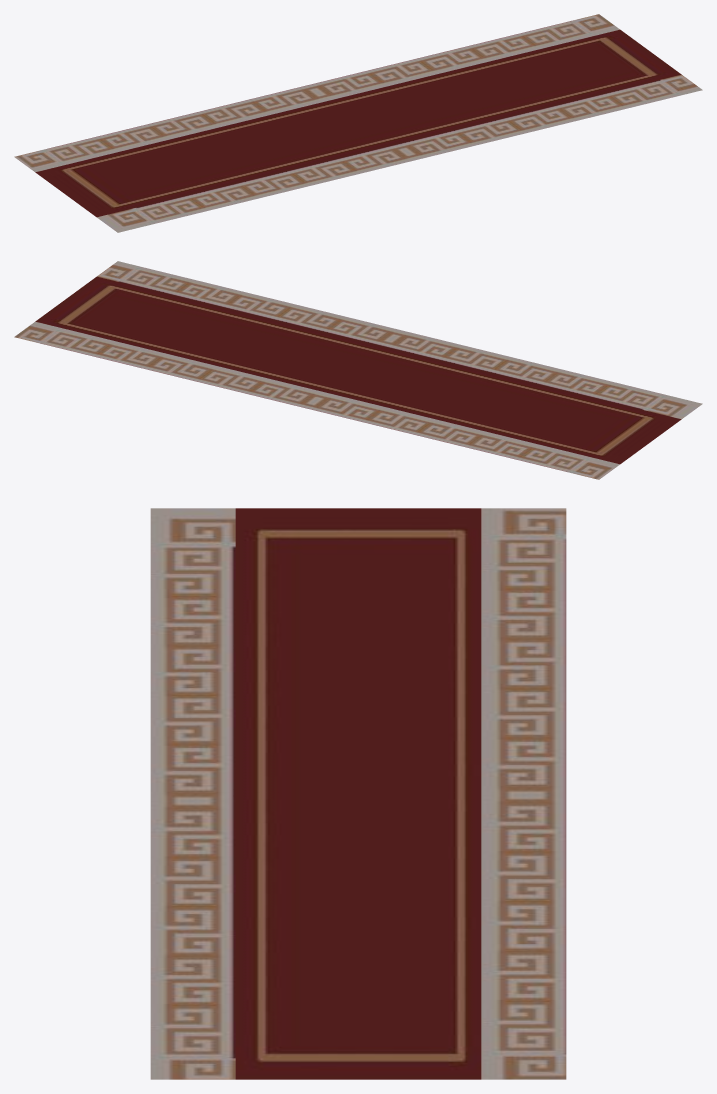
Rendered from SM_carpet_thin.glb.
The picture shows the model from 3 angles, top to bottom: view 1: azimuth 30°, elevation 25°; view 2: azimuth 150°, elevation 25°; view 3: azimuth 270°, elevation 25°; orthographic projection. The views are drawn at different scales.
Parts seen in each view (by area): view 1: SM_carpet_thin; view 2: SM_carpet_thin; view 3: SM_carpet_thin.
Part boxes in pixels (x1,y1,x2,y2): SM_carpet_thin: (14, 14, 702, 232); SM_carpet_thin: (14, 261, 702, 479); SM_carpet_thin: (150, 508, 566, 1079).
Size of the model in its own units: 10.08 by 5.1e-07 by 3.1.
Materials: 1 (1 with a texture image).
